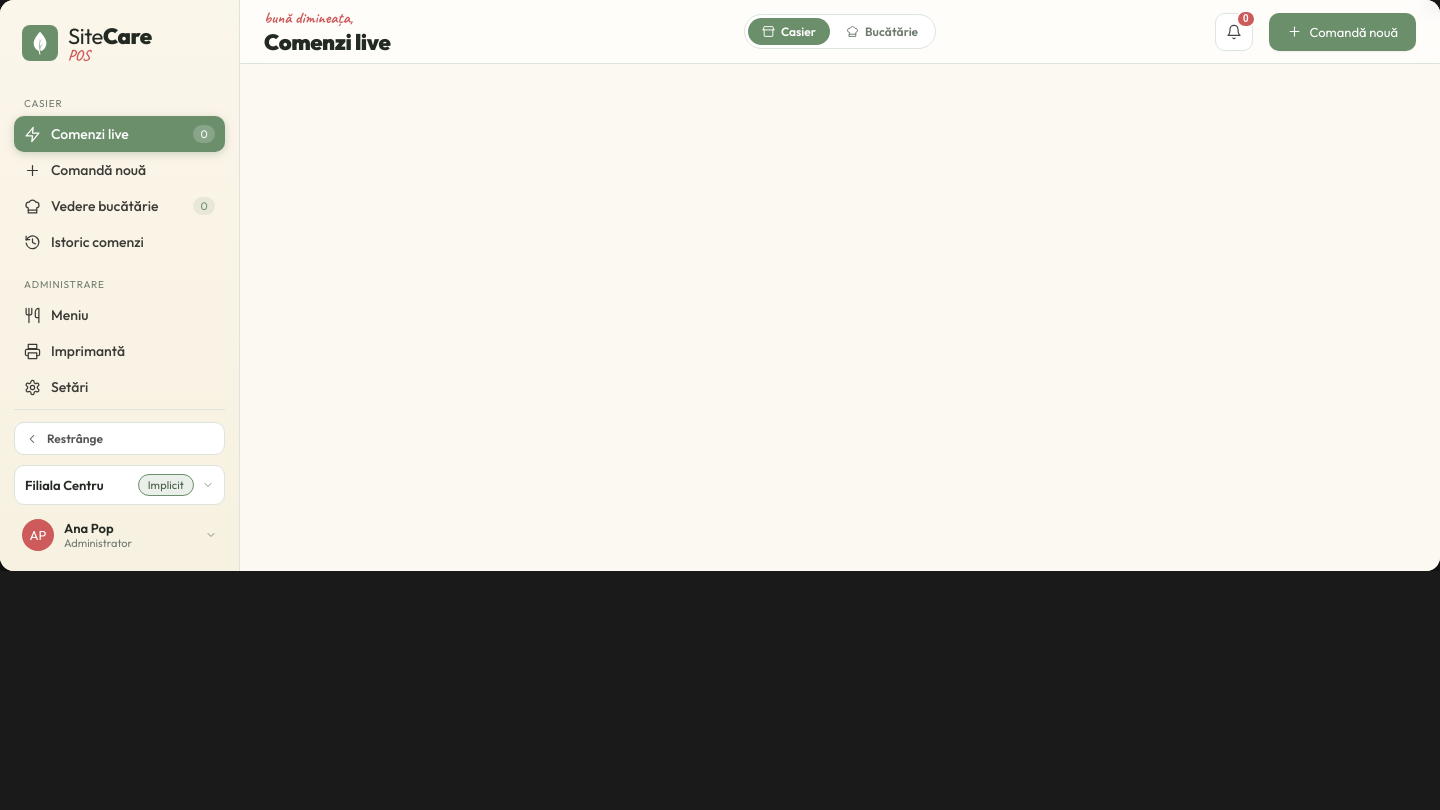
it: E3 popover backstops: loading / error states › shows an inline spinner row while useBranches() is loading
This screenshot has width=1440, height=810.
Click the element titled "Filiala Centru": point(120, 485) left=14, top=465, right=225, bottom=505
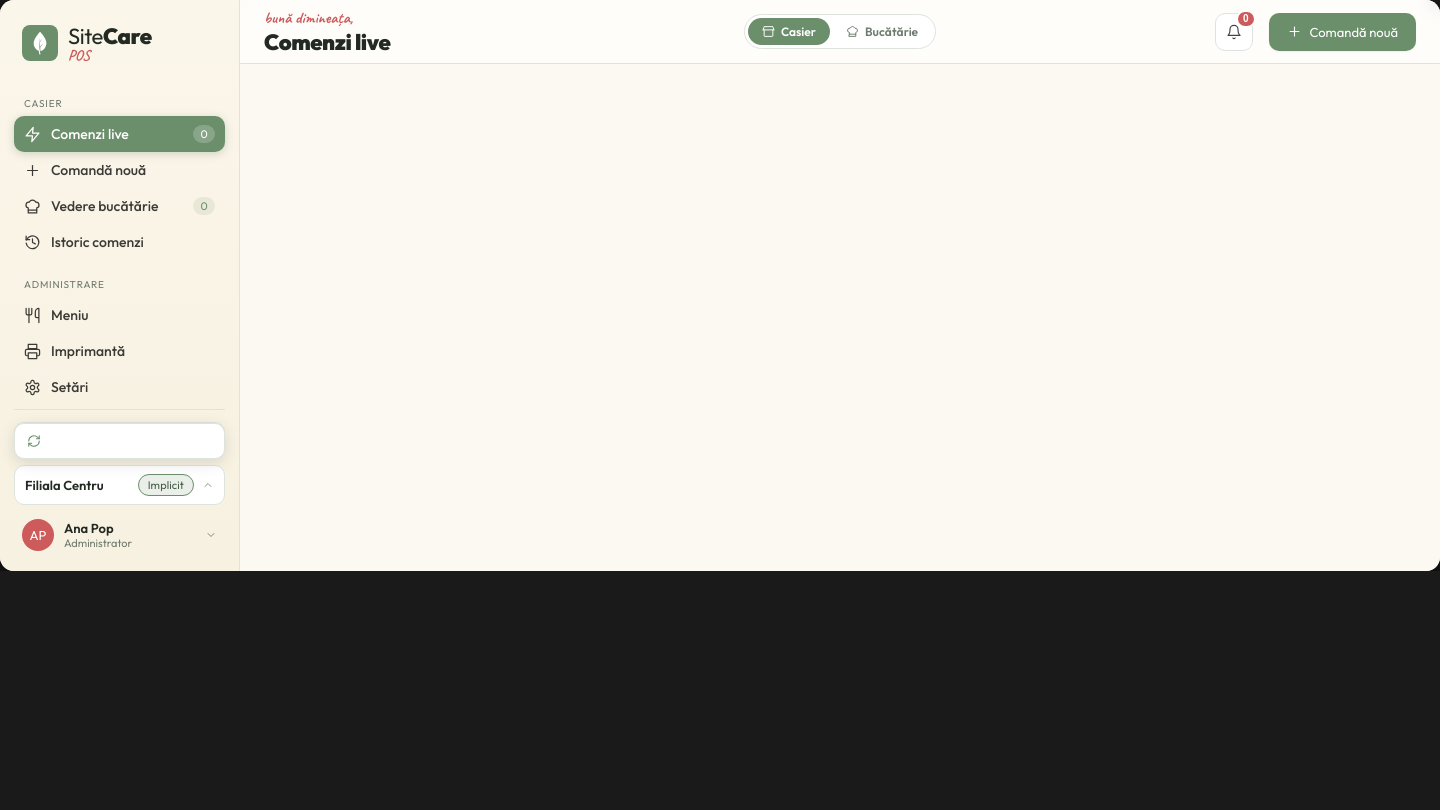
Expected: the icon with class "spin" is shown, left=27, top=434, right=41, bottom=448
